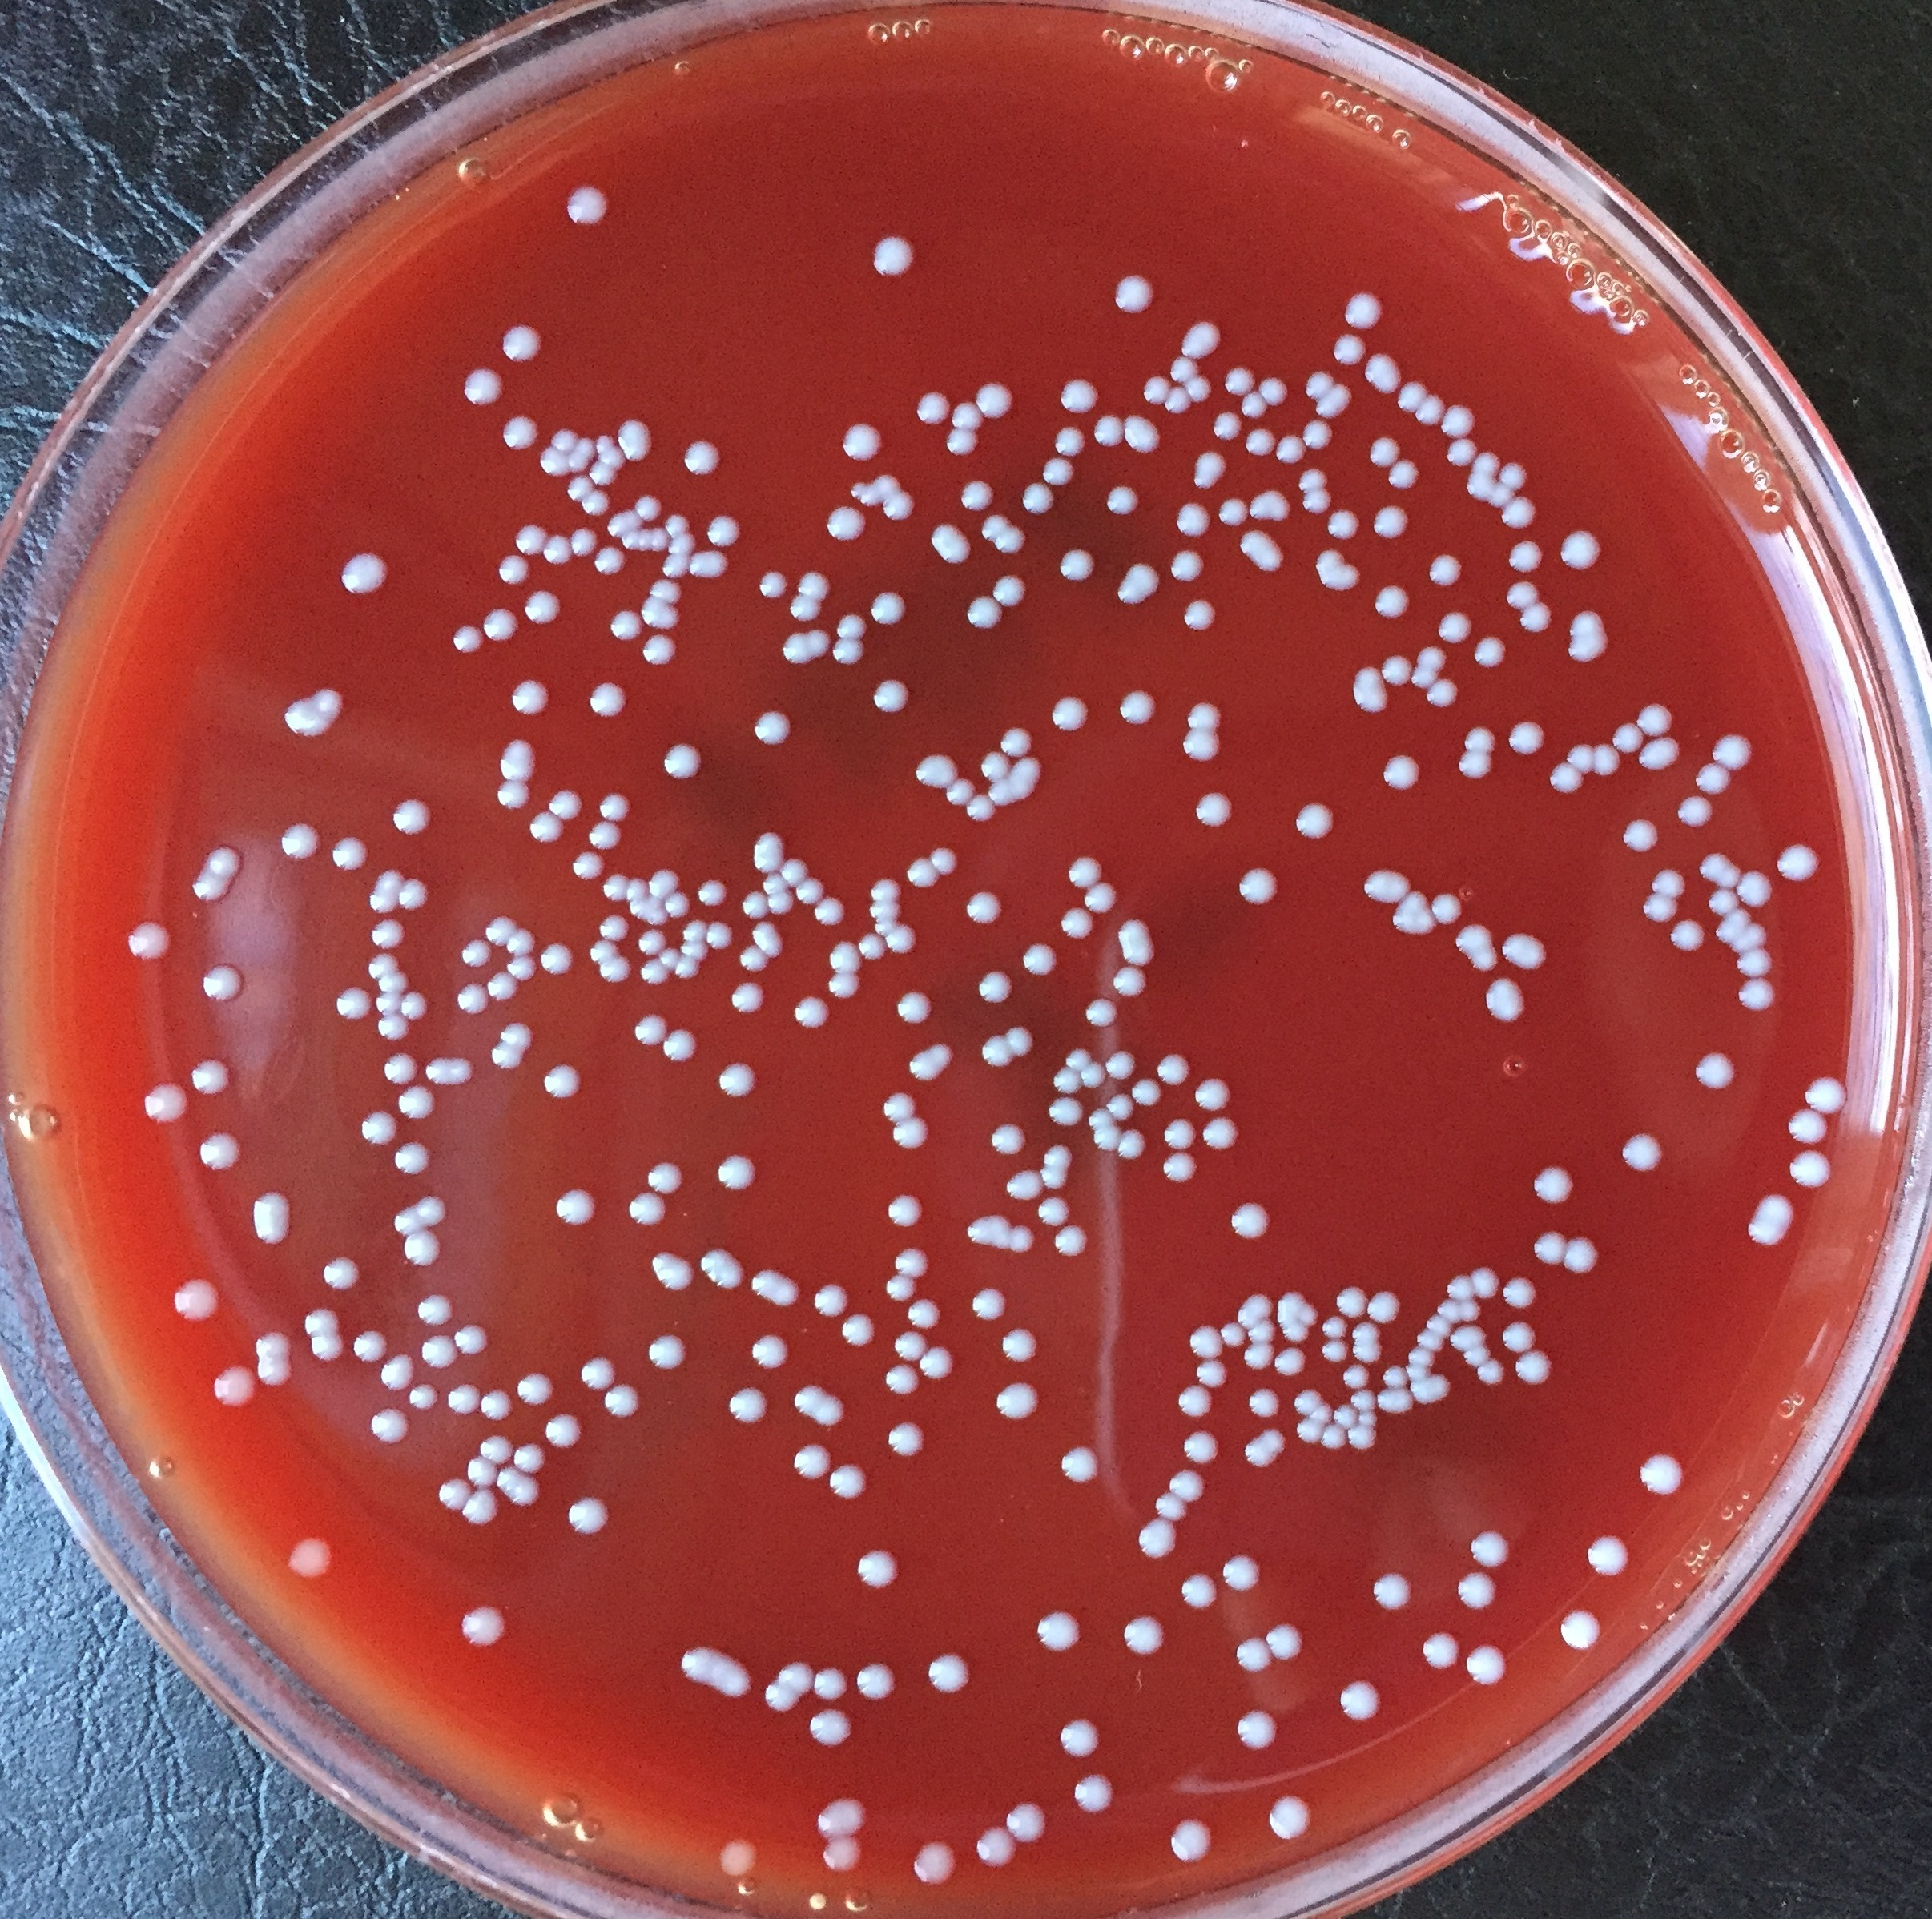sp22: (283, 689, 345, 743), (673, 1613, 712, 1694), (1565, 606, 1614, 666), (248, 1190, 295, 1249), (1635, 1448, 1688, 1501), (1111, 561, 1166, 612), (169, 1276, 223, 1325), (812, 1794, 867, 1843), (125, 917, 179, 967), (559, 185, 614, 234), (1167, 1817, 1218, 1868), (789, 1381, 844, 1429), (749, 1264, 803, 1311), (492, 1460, 543, 1510), (912, 1838, 962, 1889), (714, 1648, 756, 1706), (993, 1378, 1042, 1427), (870, 234, 921, 281), (285, 1538, 338, 1583), (1310, 550, 1362, 596), (647, 1246, 696, 1293), (1389, 887, 1436, 937), (459, 1603, 510, 1648), (714, 1835, 765, 1880), (1032, 1610, 1083, 1655), (1238, 1429, 1290, 1473), (338, 552, 392, 594), (552, 1183, 599, 1230), (1002, 1800, 1050, 1847), (1122, 1611, 1169, 1659), (698, 1246, 747, 1292), (1482, 975, 1528, 1025), (142, 1081, 190, 1126), (1266, 1792, 1313, 1838), (1584, 1531, 1630, 1578), (1454, 1569, 1503, 1613), (1118, 916, 1158, 968), (211, 1365, 257, 1411), (930, 522, 976, 568), (199, 1128, 243, 1176), (828, 1460, 875, 1504), (854, 1548, 904, 1590), (1784, 1105, 1834, 1148), (1359, 868, 1412, 907), (962, 1207, 1007, 1251), (459, 1485, 505, 1529), (564, 1495, 610, 1539), (645, 1330, 691, 1374), (856, 1661, 900, 1706), (926, 1652, 972, 1696), (976, 1826, 1020, 1872), (1236, 1708, 1282, 1752), (1419, 1627, 1463, 1673), (1777, 840, 1821, 886), (1236, 527, 1282, 571), (367, 1404, 415, 1446), (1340, 1676, 1382, 1724), (1804, 1074, 1851, 1116), (1786, 1148, 1834, 1190), (1500, 931, 1549, 972), (192, 1056, 236, 1100), (807, 1706, 853, 1749), (1071, 1773, 1116, 1815), (1260, 1620, 1306, 1662), (1470, 1525, 1512, 1571), (1695, 1049, 1737, 1095), (1529, 1165, 1575, 1207), (1340, 290, 1385, 332), (1176, 322, 1224, 362), (396, 1081, 438, 1125), (540, 1060, 582, 1104), (1463, 1643, 1507, 1685), (728, 1385, 772, 1427), (1229, 1198, 1273, 1241), (663, 740, 705, 784), (1238, 866, 1282, 909), (1294, 800, 1336, 844), (1380, 752, 1424, 794), (1621, 1132, 1665, 1174), (1113, 272, 1155, 316), (1058, 1713, 1099, 1759), (1561, 1608, 1602, 1654), (1498, 1274, 1543, 1314), (714, 1060, 759, 1100), (499, 736, 538, 784), (1635, 733, 1682, 771), (1725, 921, 1772, 959), (617, 416, 656, 464), (425, 1054, 476, 1090), (626, 1190, 668, 1232), (1561, 529, 1603, 571), (1120, 413, 1162, 455), (501, 323, 543, 366), (322, 1255, 362, 1299), (374, 1350, 415, 1394), (1371, 1571, 1415, 1611), (1058, 1445, 1102, 1485), (389, 798, 432, 838), (1192, 791, 1236, 831), (1710, 733, 1754, 773), (498, 413, 541, 453), (1361, 351, 1401, 395), (538, 1409, 584, 1448), (1510, 1348, 1556, 1387), (367, 868, 406, 914), (912, 752, 958, 791), (1352, 668, 1391, 713), (278, 822, 323, 861), (821, 1835, 863, 1875), (1136, 1518, 1178, 1559), (751, 1332, 793, 1372), (1167, 547, 1208, 589), (872, 677, 912, 719), (1529, 1227, 1570, 1269), (1559, 1234, 1600, 1276), (380, 1051, 424, 1090), (714, 1155, 758, 1193), (840, 424, 884, 462), (462, 367, 506, 406), (200, 961, 244, 1000), (886, 1190, 926, 1230), (976, 381, 1016, 422), (404, 1228, 443, 1271), (1623, 815, 1661, 858), (680, 438, 723, 476), (190, 868, 234, 905), (751, 710, 795, 747), (751, 916, 786, 961), (1246, 489, 1292, 524), (359, 1105, 397, 1146), (420, 1332, 461, 1371), (1222, 1553, 1260, 1594), (1183, 1427, 1222, 1467), (886, 1420, 926, 1459), (999, 1325, 1039, 1364), (508, 678, 548, 717), (589, 680, 629, 719), (1050, 694, 1090, 733), (868, 590, 909, 629), (763, 1676, 800, 1719), (1231, 1638, 1273, 1675), (1180, 1575, 1222, 1611), (1735, 977, 1777, 1014), (1754, 1191, 1797, 1228), (1410, 1372, 1454, 1408), (640, 597, 684, 633), (392, 1137, 431, 1176), (775, 1659, 814, 1698), (1500, 1316, 1538, 1355), (1111, 961, 1150, 1000), (1586, 742, 1624, 780), (1057, 547, 1095, 585), (524, 589, 563, 627), (415, 1292, 455, 1329), (1167, 1467, 1208, 1504), (1006, 1167, 1046, 1204), (1160, 1149, 1201, 1186), (1067, 854, 1108, 891), (330, 835, 371, 872), (1373, 585, 1413, 622), (1637, 699, 1674, 740), (826, 506, 867, 543), (967, 594, 1004, 634), (791, 995, 833, 1030), (1181, 726, 1224, 761), (1192, 448, 1227, 490), (1058, 380, 1100, 415), (480, 606, 522, 641), (603, 1383, 642, 1420), (812, 1664, 849, 1703), (1234, 1293, 1273, 1330), (1187, 1323, 1225, 1360), (812, 1281, 849, 1320), (1202, 1114, 1239, 1153), (1120, 689, 1157, 728), (1668, 916, 1707, 952), (1508, 721, 1547, 757), (1735, 868, 1772, 907), (1373, 503, 1410, 541), (513, 522, 550, 561), (905, 1049, 946, 1084), (976, 968, 1016, 1003), (526, 810, 566, 845), (1452, 921, 1493, 956), (1675, 794, 1716, 829), (334, 986, 374, 1021), (1449, 1325, 1494, 1355), (512, 1439, 548, 1476), (580, 1355, 617, 1392), (1176, 1383, 1213, 1420), (893, 1329, 930, 1365), (970, 1285, 1007, 1322), (991, 1121, 1028, 1158), (1058, 903, 1095, 940), (997, 724, 1034, 761), (1317, 381, 1354, 418), (309, 1330, 348, 1365), (840, 1311, 875, 1350), (1051, 1223, 1090, 1258), (570, 847, 608, 882), (1695, 761, 1733, 796), (1426, 554, 1464, 589), (1507, 539, 1545, 575), (1176, 501, 1211, 539), (1501, 497, 1540, 532), (789, 1445, 830, 1478), (751, 831, 784, 872), (640, 634, 680, 668), (251, 1329, 294, 1360), (687, 548, 730, 580), (352, 1329, 389, 1364), (462, 1457, 499, 1492), (1333, 1285, 1369, 1320), (1468, 1264, 1503, 1300), (884, 1364, 921, 1399), (893, 1244, 930, 1279), (1048, 1093, 1085, 1128), (979, 1032, 1014, 1068), (1155, 1051, 1192, 1086), (1025, 942, 1060, 979), (895, 989, 932, 1025), (967, 889, 1004, 924), (540, 942, 577, 977), (485, 968, 522, 1003), (1438, 608, 1473, 645), (1380, 654, 1417, 689), (1517, 601, 1554, 636), (1440, 404, 1477, 439), (918, 390, 953, 427), (1104, 483, 1141, 518), (993, 571, 1028, 608), (705, 513, 742, 548), (476, 1432, 515, 1466), (918, 1346, 956, 1380), (905, 856, 944, 889), (1549, 761, 1587, 794), (882, 490, 921, 524), (206, 845, 244, 879), (253, 1357, 294, 1388), (1153, 1492, 1194, 1524), (645, 866, 686, 898), (1744, 1216, 1784, 1248), (1368, 1290, 1403, 1325), (893, 1114, 928, 1149), (1129, 1074, 1164, 1109), (1194, 1077, 1229, 1112), (1160, 1116, 1195, 1151), (371, 916, 406, 951), (455, 982, 490, 1017), (633, 1012, 668, 1047), (663, 1028, 698, 1063), (1429, 891, 1464, 926), (1652, 866, 1688, 902), (960, 478, 995, 513), (1021, 480, 1057, 515), (1041, 453, 1076, 489), (647, 1160, 684, 1193), (447, 1381, 480, 1418), (480, 1387, 513, 1423), (436, 1478, 473, 1511), (1245, 1385, 1282, 1418), (907, 1297, 944, 1330), (728, 981, 765, 1014), (483, 914, 520, 947), (487, 1040, 524, 1074), (1471, 636, 1508, 670), (1181, 599, 1218, 633), (1333, 330, 1366, 367), (1345, 1422, 1384, 1453), (781, 629, 812, 668), (454, 1323, 489, 1357), (517, 1372, 552, 1406), (1473, 1357, 1508, 1390), (882, 1090, 918, 1123), (1083, 880, 1118, 914), (830, 940, 863, 975), (587, 819, 622, 852), (1644, 891, 1679, 924), (1565, 743, 1598, 778), (1426, 678, 1461, 712), (1445, 438, 1480, 471), (944, 425, 979, 459), (1055, 424, 1090, 457), (1092, 413, 1125, 448), (498, 552, 533, 585), (1035, 1195, 1072, 1227), (1006, 1023, 1037, 1060), (457, 937, 494, 968), (1187, 699, 1224, 731), (1463, 724, 1500, 756), (949, 399, 986, 431), (830, 634, 867, 666), (1396, 380, 1427, 416), (1456, 750, 1494, 780), (1375, 1387, 1415, 1415), (1194, 1358, 1227, 1392), (1104, 1049, 1137, 1083), (886, 924, 919, 958), (977, 750, 1011, 784), (1696, 851, 1730, 884), (1275, 432, 1308, 466), (1326, 508, 1359, 541), (796, 569, 830, 603), (1413, 395, 1447, 429), (306, 1306, 341, 1337), (1317, 1422, 1352, 1453), (1083, 998, 1118, 1030), (828, 972, 863, 1003), (1368, 434, 1399, 469), (592, 545, 628, 576), (1222, 366, 1257, 397), (596, 954, 633, 984), (496, 778, 533, 808), (1735, 947, 1772, 977), (1505, 580, 1542, 610), (450, 624, 487, 654), (605, 508, 643, 536), (1340, 1360, 1373, 1392), (505, 951, 538, 982), (636, 958, 670, 989), (397, 877, 429, 910), (548, 787, 582, 819), (1217, 497, 1250, 529), (758, 571, 791, 603), (995, 525, 1028, 557), (661, 552, 694, 583), (1137, 374, 1169, 408), (1162, 383, 1194, 416), (1255, 374, 1287, 408), (1292, 1418, 1327, 1448), (1118, 1126, 1148, 1162), (596, 914, 631, 944), (1243, 425, 1278, 455), (541, 532, 571, 568), (803, 624, 833, 659), (1290, 1387, 1327, 1415), (963, 794, 1000, 822), (867, 896, 905, 923), (1243, 1339, 1275, 1371), (1053, 1065, 1085, 1097), (1092, 1121, 1123, 1153), (661, 889, 693, 921), (599, 872, 631, 903), (1389, 459, 1420, 490), (406, 1383, 439, 1413), (882, 1272, 916, 1302), (812, 896, 846, 926), (694, 879, 728, 909), (779, 854, 809, 887), (367, 951, 401, 981), (399, 989, 429, 1023), (1301, 420, 1334, 450), (568, 525, 598, 559), (1303, 369, 1333, 402), (376, 1014, 411, 1042), (1275, 1346, 1306, 1376), (928, 845, 958, 877), (795, 873, 824, 905), (1498, 459, 1528, 490), (835, 612, 867, 641), (633, 492, 665, 522), (610, 610, 642, 640), (564, 474, 596, 504), (1167, 355, 1199, 385), (417, 1195, 450, 1223), (1350, 1337, 1384, 1365), (1413, 1325, 1447, 1353), (768, 887, 796, 921), (505, 928, 538, 956), (499, 1021, 533, 1049), (679, 937, 712, 965), (598, 793, 631, 821), (944, 778, 977, 807), (1610, 724, 1644, 752), (1345, 1387, 1380, 1413), (868, 877, 904, 903), (371, 989, 406, 1016), (1044, 1142, 1074, 1172), (1213, 411, 1243, 441), (981, 511, 1011, 541), (578, 489, 608, 518), (1471, 448, 1501, 478), (541, 445, 570, 476), (1217, 1322, 1248, 1350), (1108, 1091, 1136, 1123), (740, 889, 768, 921), (1297, 466, 1329, 494), (1301, 489, 1333, 517), (789, 596, 821, 624), (650, 576, 682, 605), (1037, 1163, 1071, 1190), (856, 933, 890, 959), (396, 1204, 424, 1234), (1456, 1297, 1484, 1327), (1333, 1402, 1362, 1430), (740, 944, 770, 972), (1468, 945, 1498, 974), (1707, 887, 1737, 916), (550, 427, 580, 455), (1238, 390, 1267, 418), (1009, 1223, 1035, 1255), (1081, 1060, 1108, 1091), (636, 928, 668, 954), (587, 938, 619, 965), (673, 951, 700, 982), (707, 919, 733, 951), (1415, 645, 1447, 671), (1445, 1272, 1473, 1300), (591, 460, 621, 487), (1013, 756, 1042, 782), (1463, 1343, 1493, 1369), (1064, 1047, 1093, 1074), (661, 511, 691, 538), (1406, 1344, 1438, 1369), (1246, 1318, 1278, 1343), (849, 480, 877, 506), (1468, 474, 1494, 503), (1320, 1313, 1348, 1339), (1382, 1362, 1410, 1388), (1294, 1300, 1320, 1329), (1424, 1313, 1454, 1337), (380, 968, 410, 993), (1410, 664, 1440, 689), (1278, 1292, 1301, 1323), (1491, 483, 1517, 510), (680, 917, 707, 944), (1183, 376, 1209, 402), (875, 473, 900, 501), (1320, 1339, 1348, 1364), (1434, 1299, 1463, 1323), (928, 1042, 956, 1067), (666, 531, 696, 554), (1009, 778, 1034, 805), (1310, 1404, 1336, 1429), (1282, 1322, 1310, 1344), (1352, 1320, 1380, 1343), (988, 780, 1011, 807), (1088, 1105, 1115, 1128), (599, 448, 628, 469), (649, 525, 670, 554), (622, 527, 640, 561), (626, 875, 649, 900), (659, 944, 679, 972), (1406, 1362, 1431, 1383), (1355, 1408, 1380, 1429), (577, 436, 596, 459), (570, 452, 589, 473), (596, 432, 615, 452), (640, 525, 650, 561)
